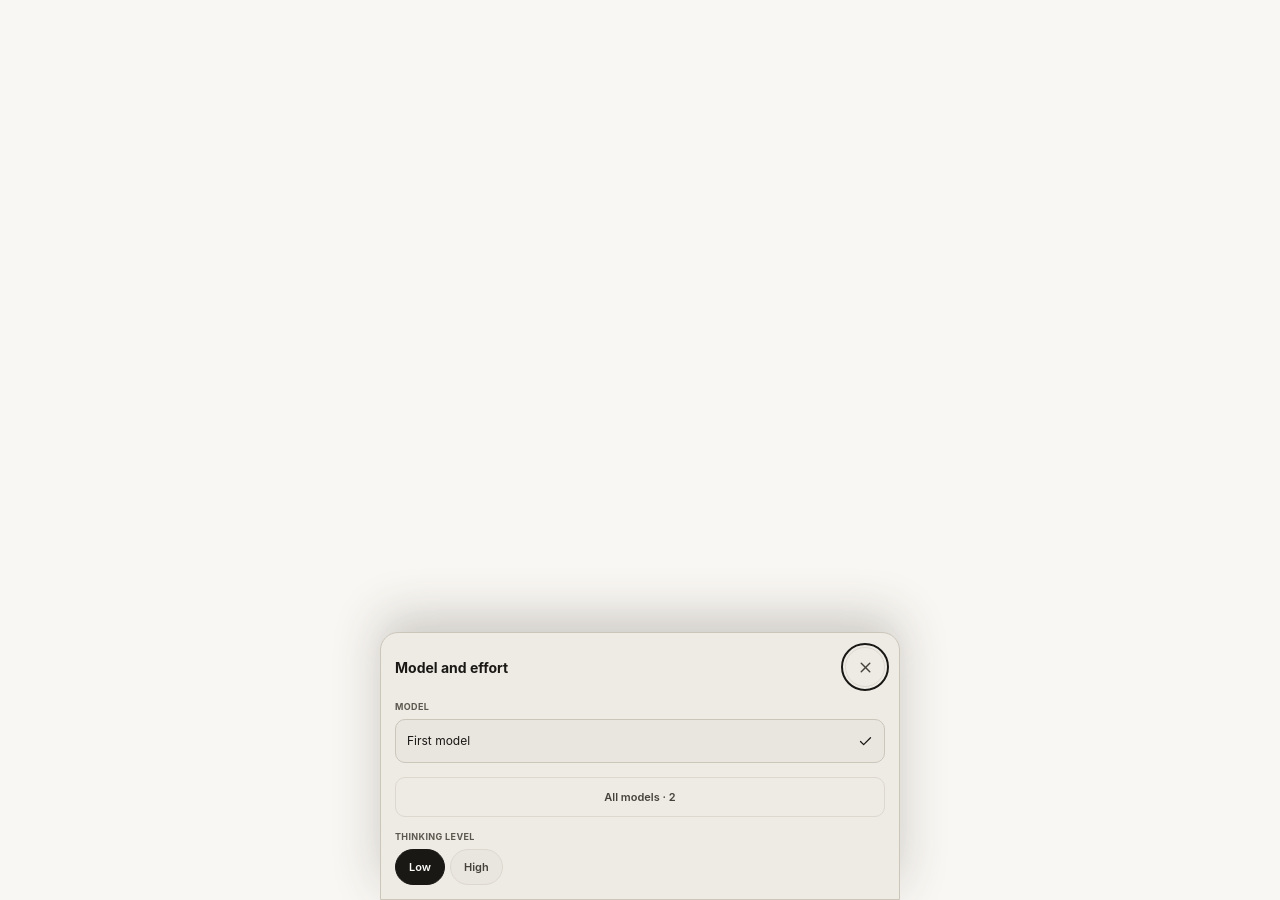
Test case: ModelSheet › says which row is being applied and ignores a second tap until it settles
The width and height of the screenshot is (1280, 900).
Click the button "All models · 2": (640, 797) [395,777,885,817]
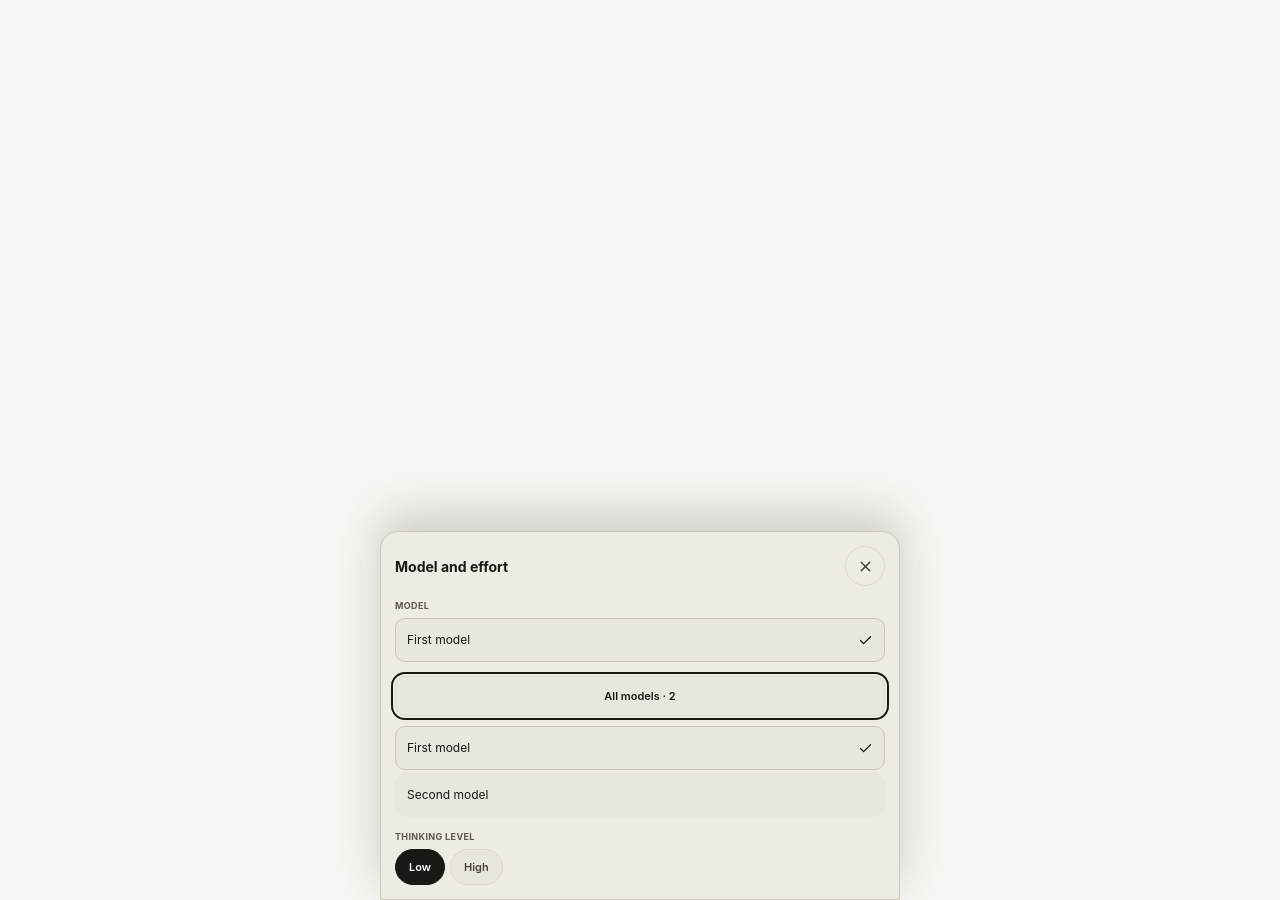
Click the radio button labelled "Second model": (448, 794) [395,773,885,817]
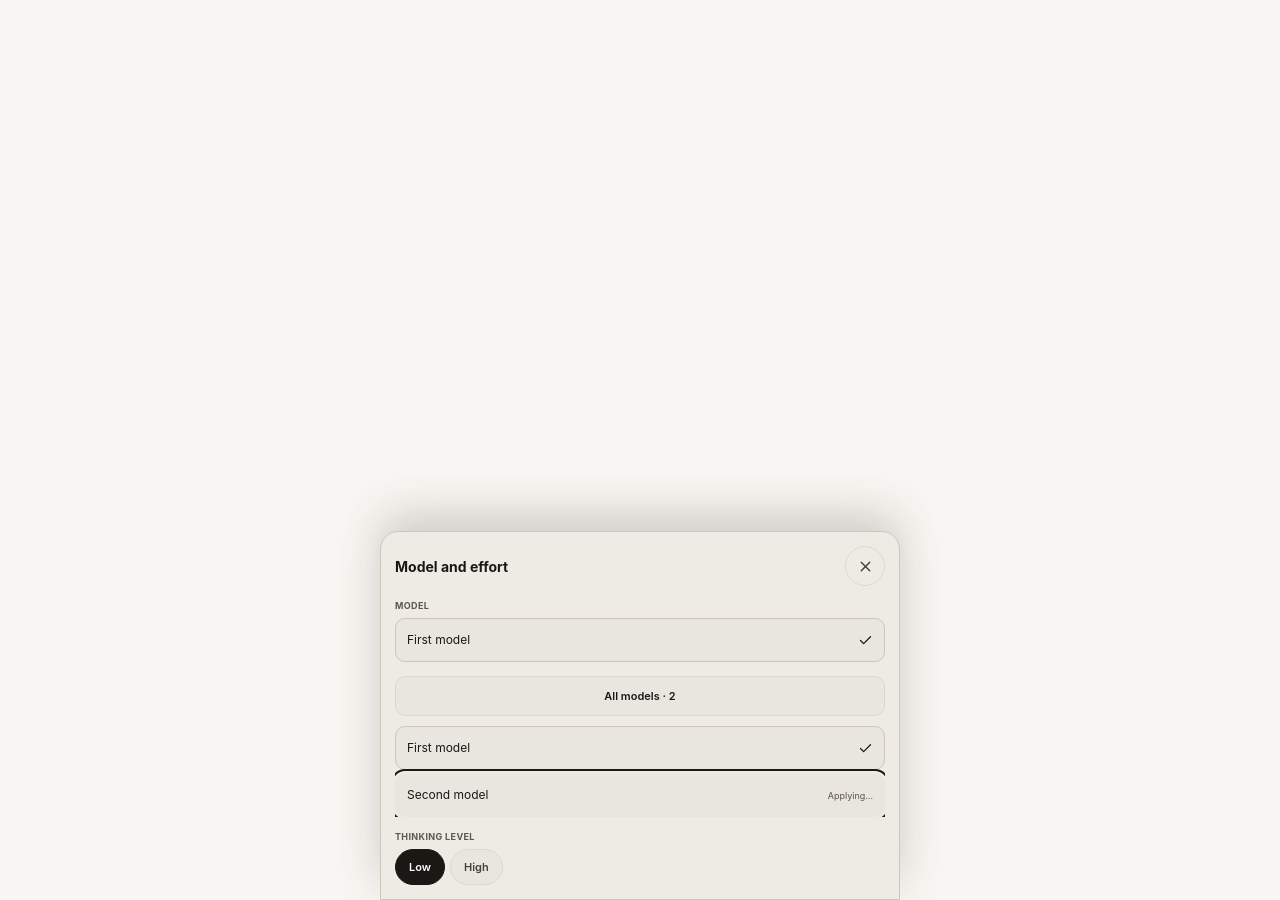
Expected: the text "Applying…" is shown, [828,790,873,800]
Click the 2nd radio button labelled "First model": (439, 747) [395,726,885,770]
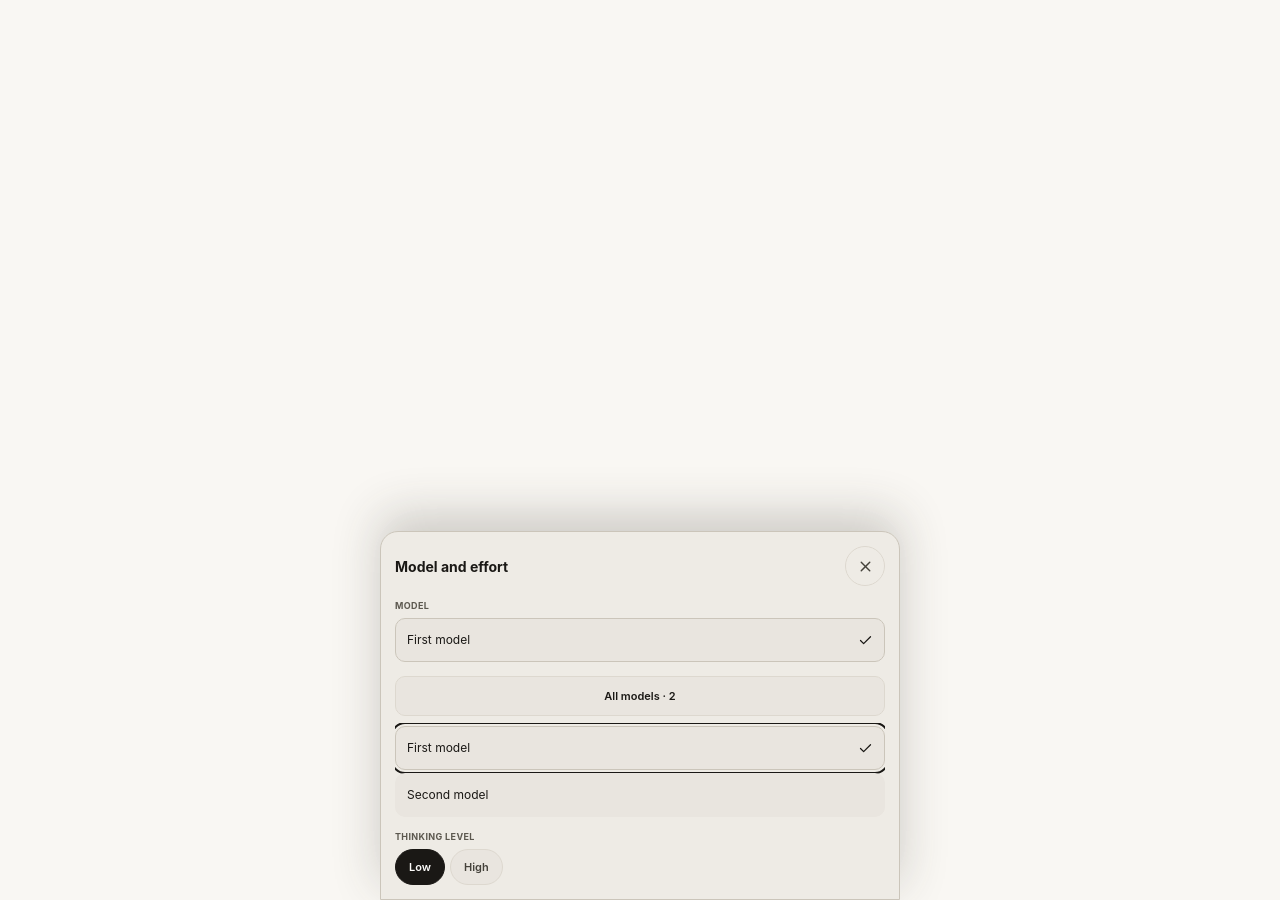
Expected: the text "Applying…" is gone
